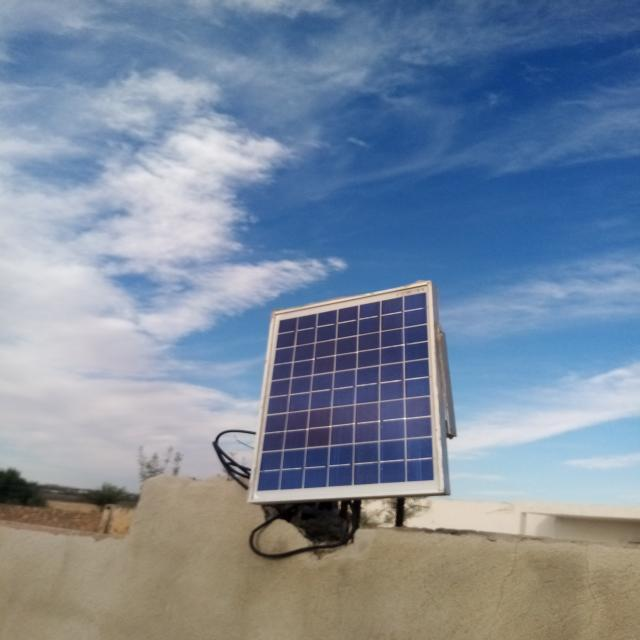Normal Solar Panel: (249, 283, 444, 500)
